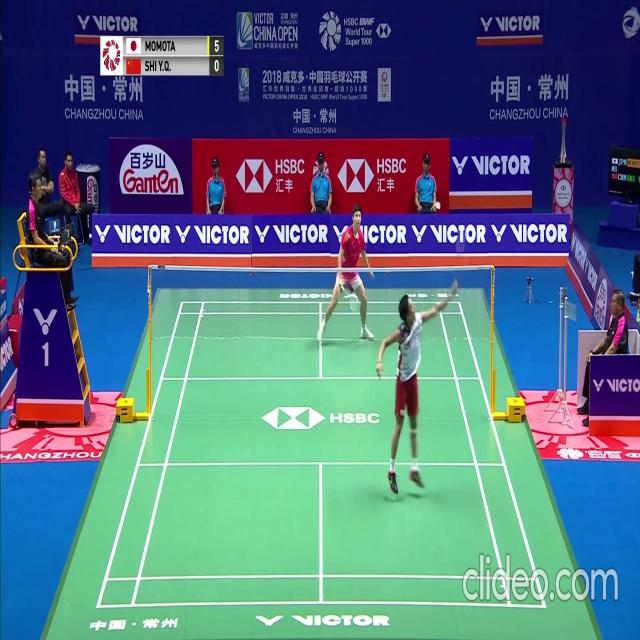Shuttlecock: (434, 201, 439, 208)
